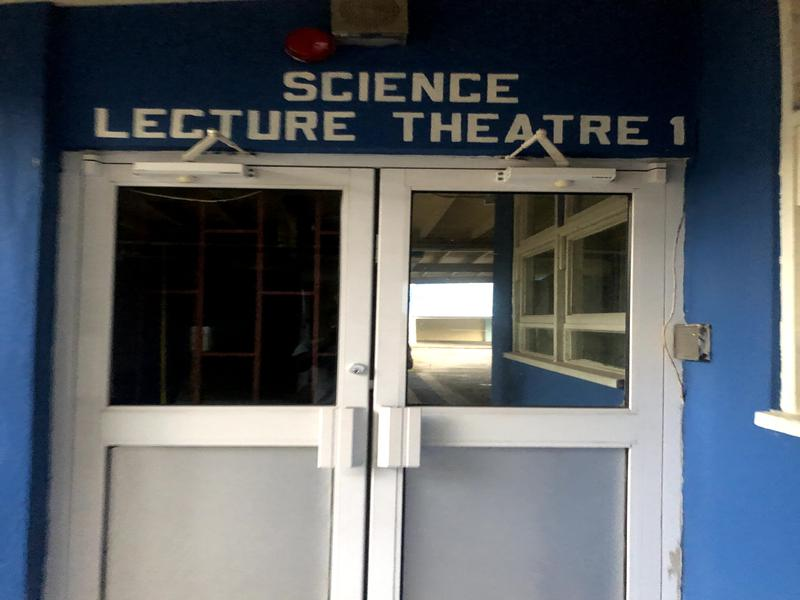18.0051836_-76.7497262_pclt1: (36, 22, 716, 600)
